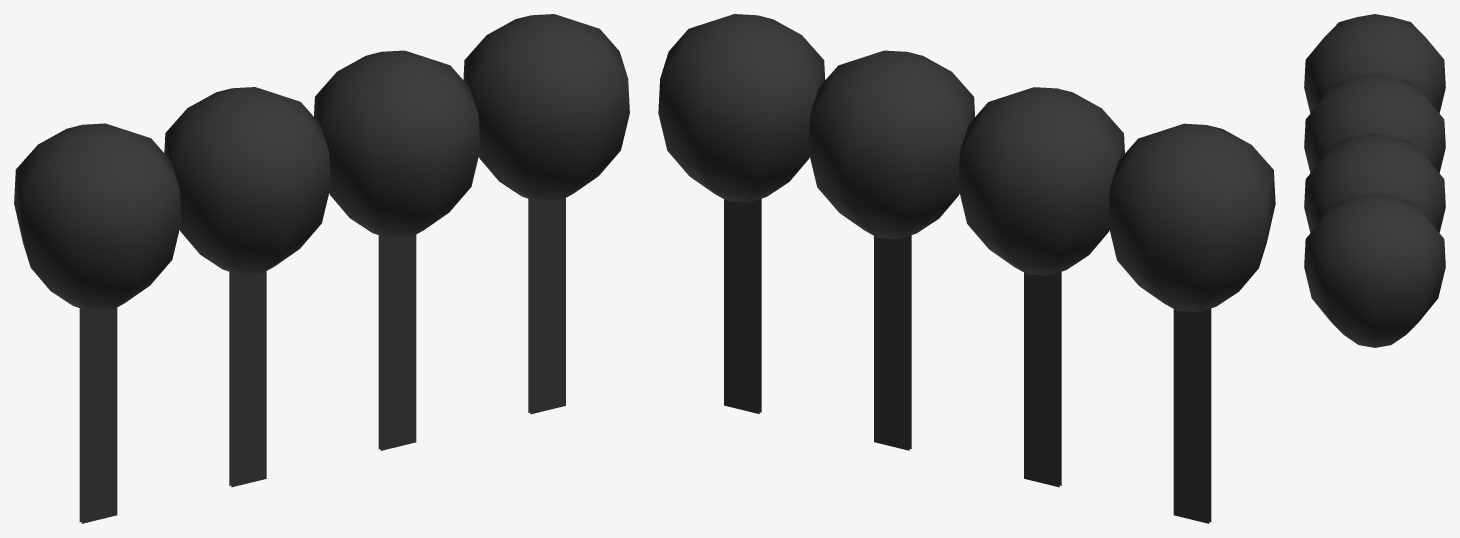
Rendered from xiaoqiqiu.fbx.
3 renders of one model, left to right at view 1: azimuth 30°, elevation 25°; view 2: azimuth 150°, elevation 25°; view 3: azimuth 270°, elevation 25°, orthographic. The views are drawn at different scales.
Parts seen in each view (by area): view 1: xiaoqiqiu_04, xiaoqiqiu_02, xiaoqiqiu_01, xiaoqiqiu_03; view 2: xiaoqiqiu_04, xiaoqiqiu_02, xiaoqiqiu_03, xiaoqiqiu_01; view 3: xiaoqiqiu_01, xiaoqiqiu_03, xiaoqiqiu_02, xiaoqiqiu_04.
Boxes of the visible parts, x1,y1,x2,y2 form: xiaoqiqiu_04: (14,123,181,523); xiaoqiqiu_02: (314,50,480,450); xiaoqiqiu_01: (463,14,629,414); xiaoqiqiu_03: (164,87,330,487); xiaoqiqiu_04: (1108,123,1275,523); xiaoqiqiu_02: (808,50,974,450); xiaoqiqiu_03: (958,87,1124,487); xiaoqiqiu_01: (658,14,825,413); xiaoqiqiu_01: (1304,193,1445,347); xiaoqiqiu_03: (1304,74,1445,172); xiaoqiqiu_02: (1304,133,1445,232); xiaoqiqiu_04: (1304,14,1445,113).
Bounding box in the file's own units: 112 × 69.29 × 28.03.
